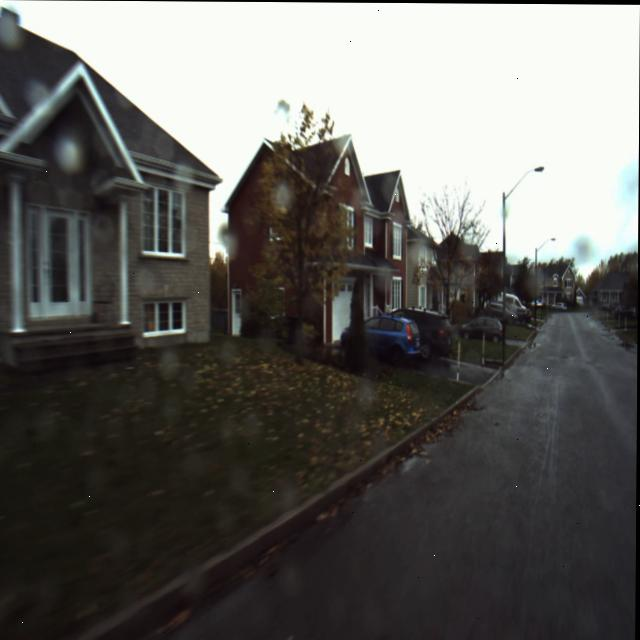car: (335, 303, 425, 371)
